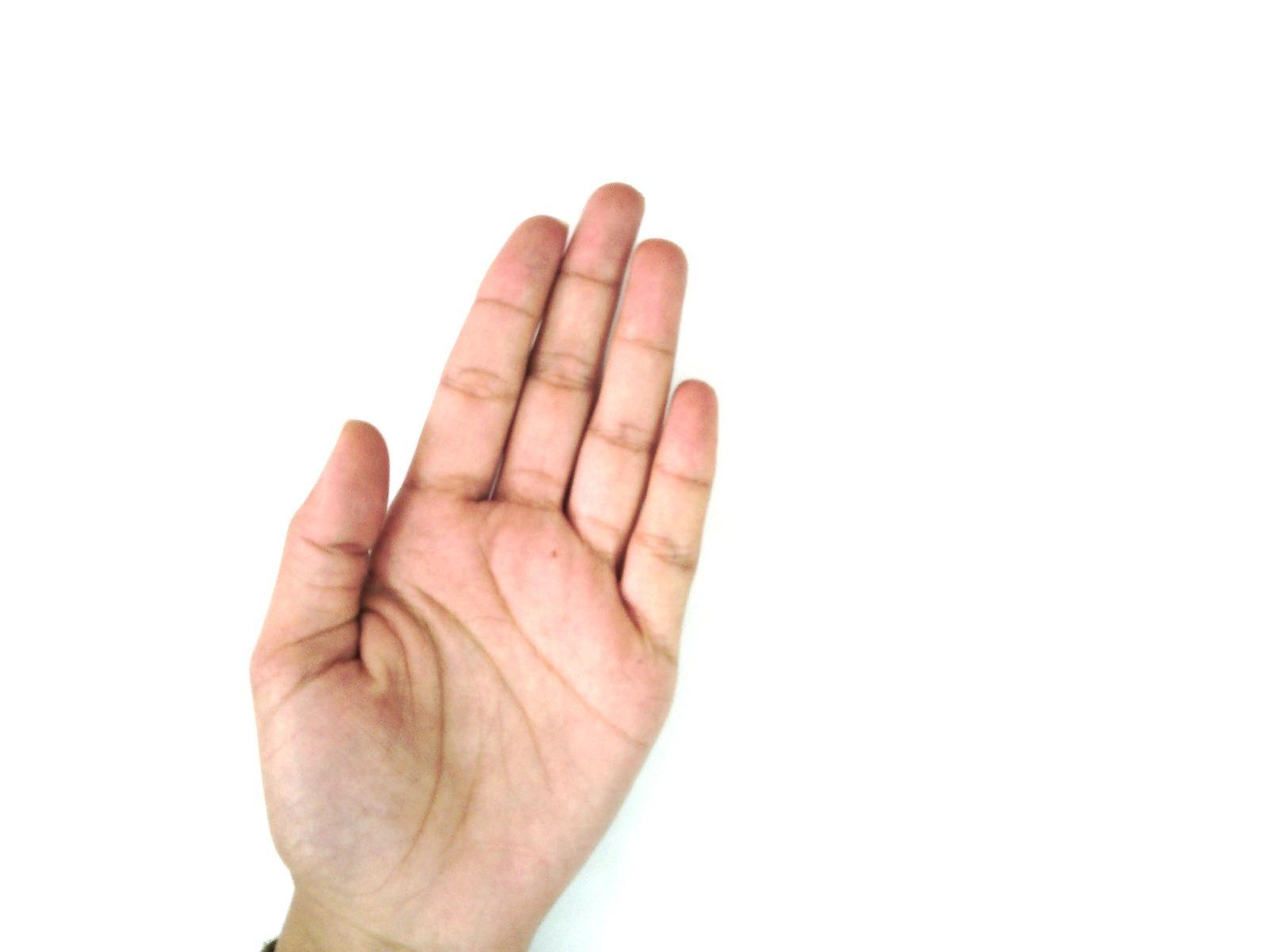open_palm: (247, 181, 723, 950)
